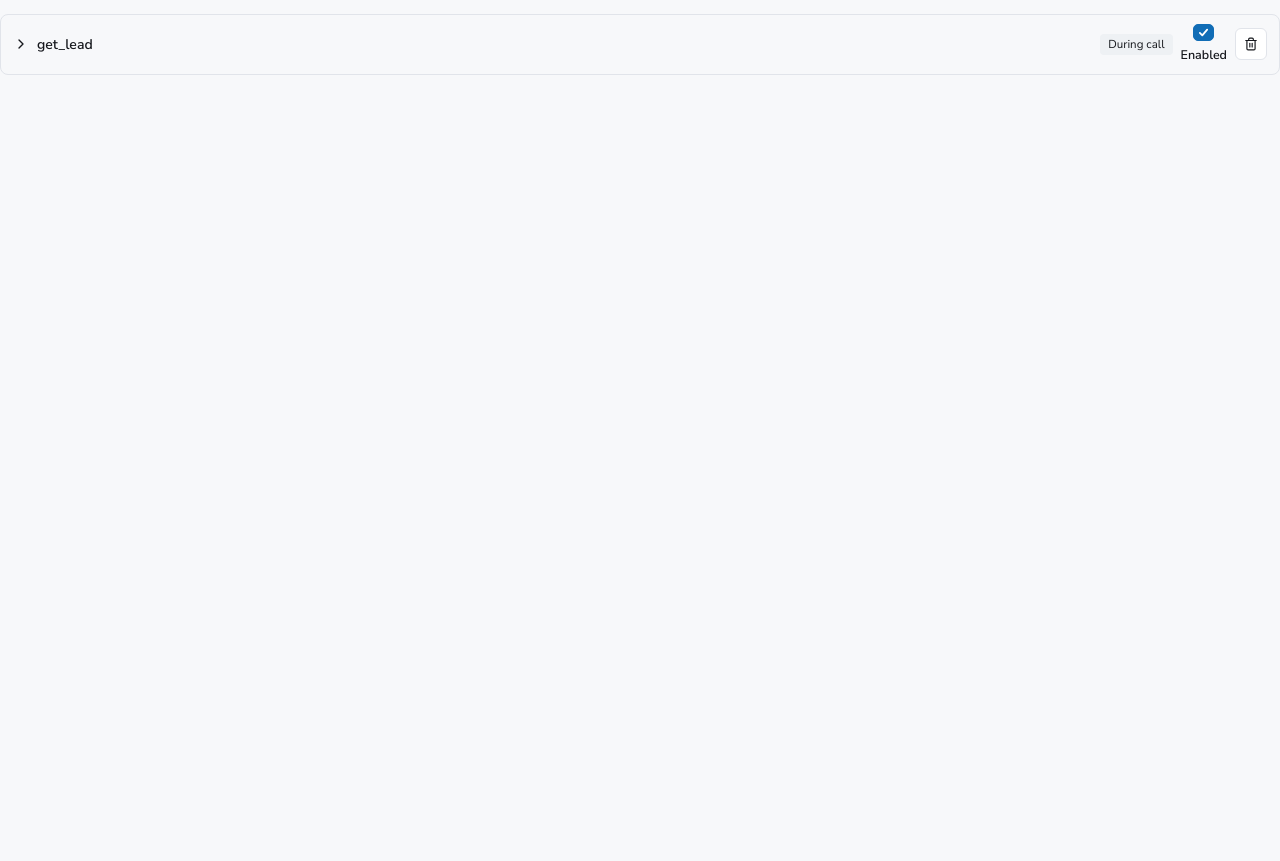
it: CustomFunctionsEditor › runs a test and shows the result
Click the button named "Expand".
click(21, 44)  # box [13, 28, 29, 61]
(page scrolled)
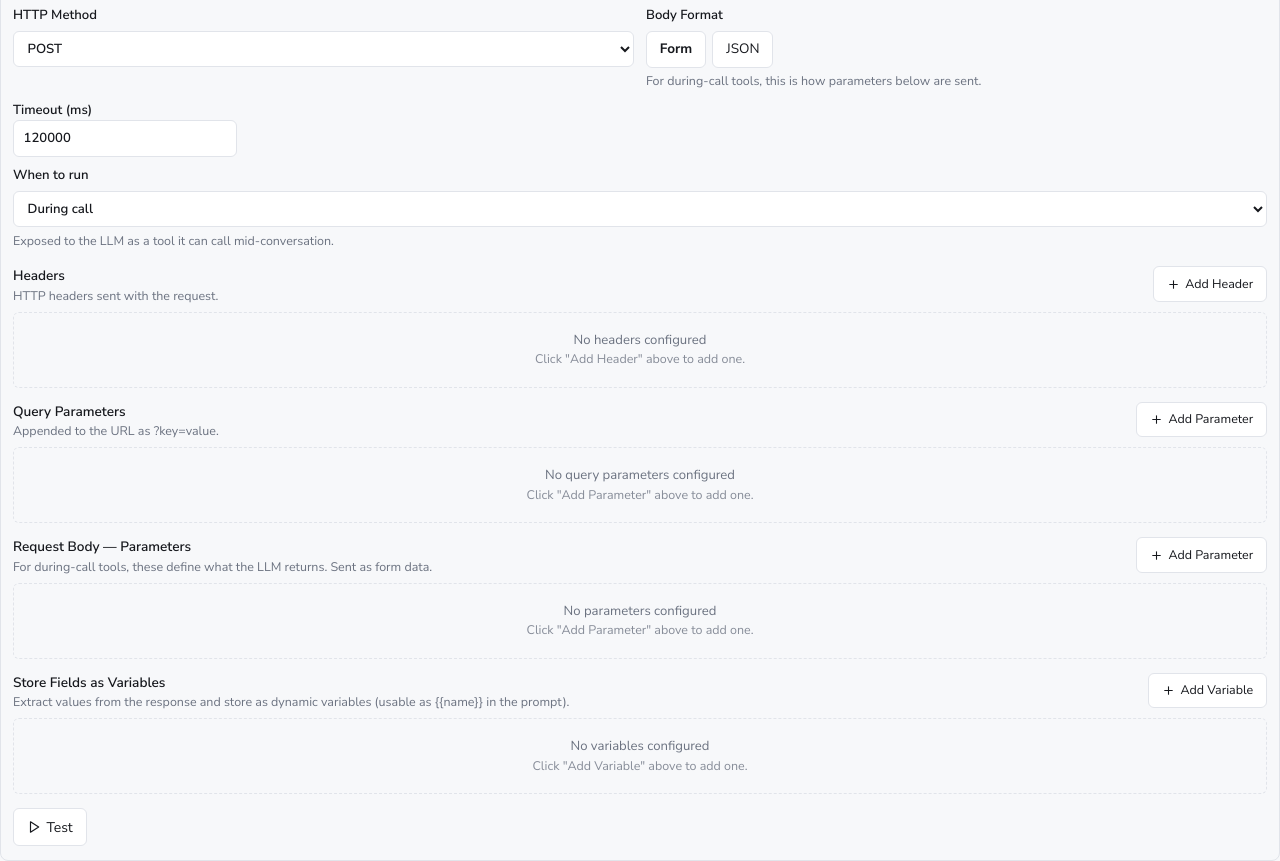
Click the button "Test".
click(50, 827)  # box [13, 808, 87, 846]
(page scrolled)
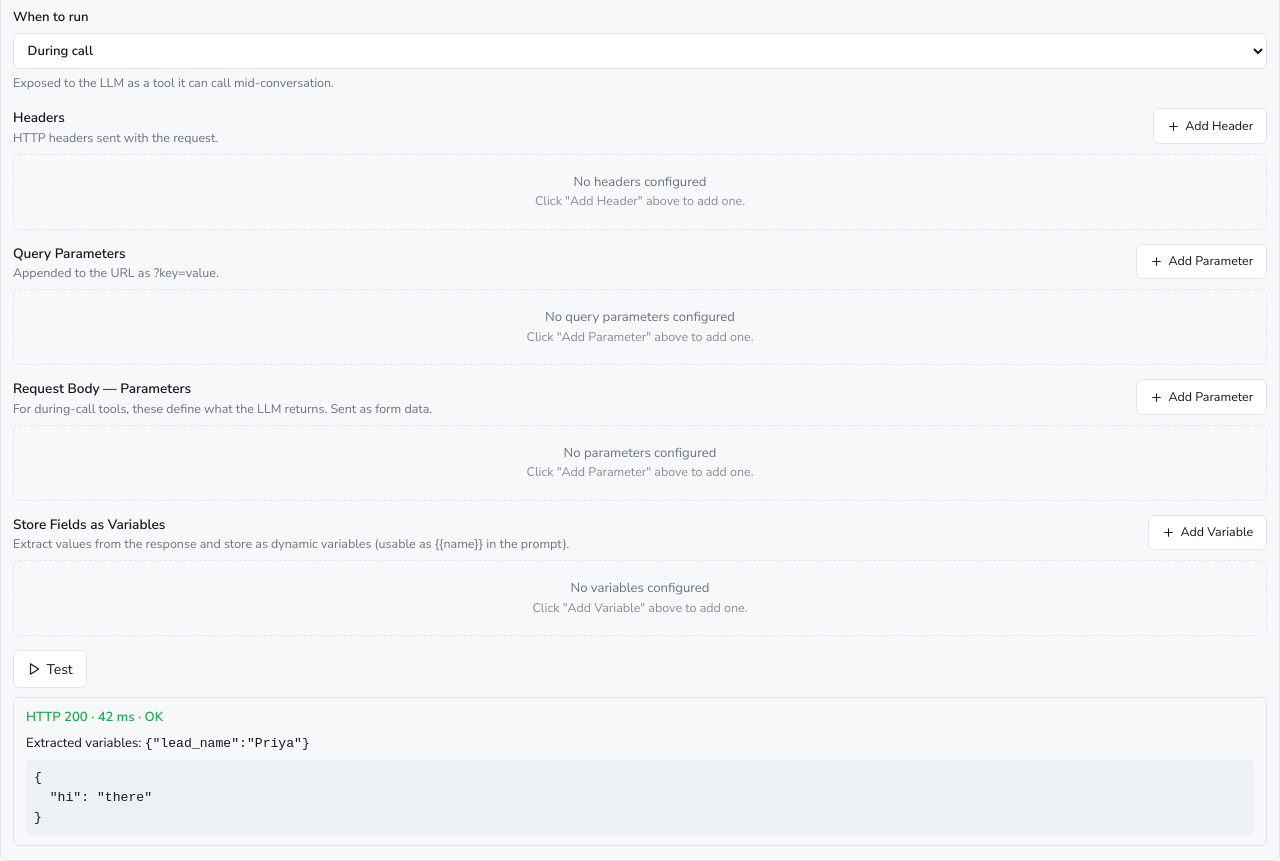
Result: the text "HTTP 200 · 42 ms · OK" is shown at [26, 708, 163, 726]
Result: the text "{\"lead_name\":\"Priya\"}" is shown at [145, 736, 310, 751]
